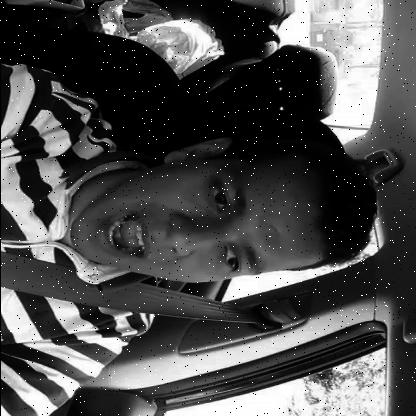seatbelt: (0, 138, 379, 320)
